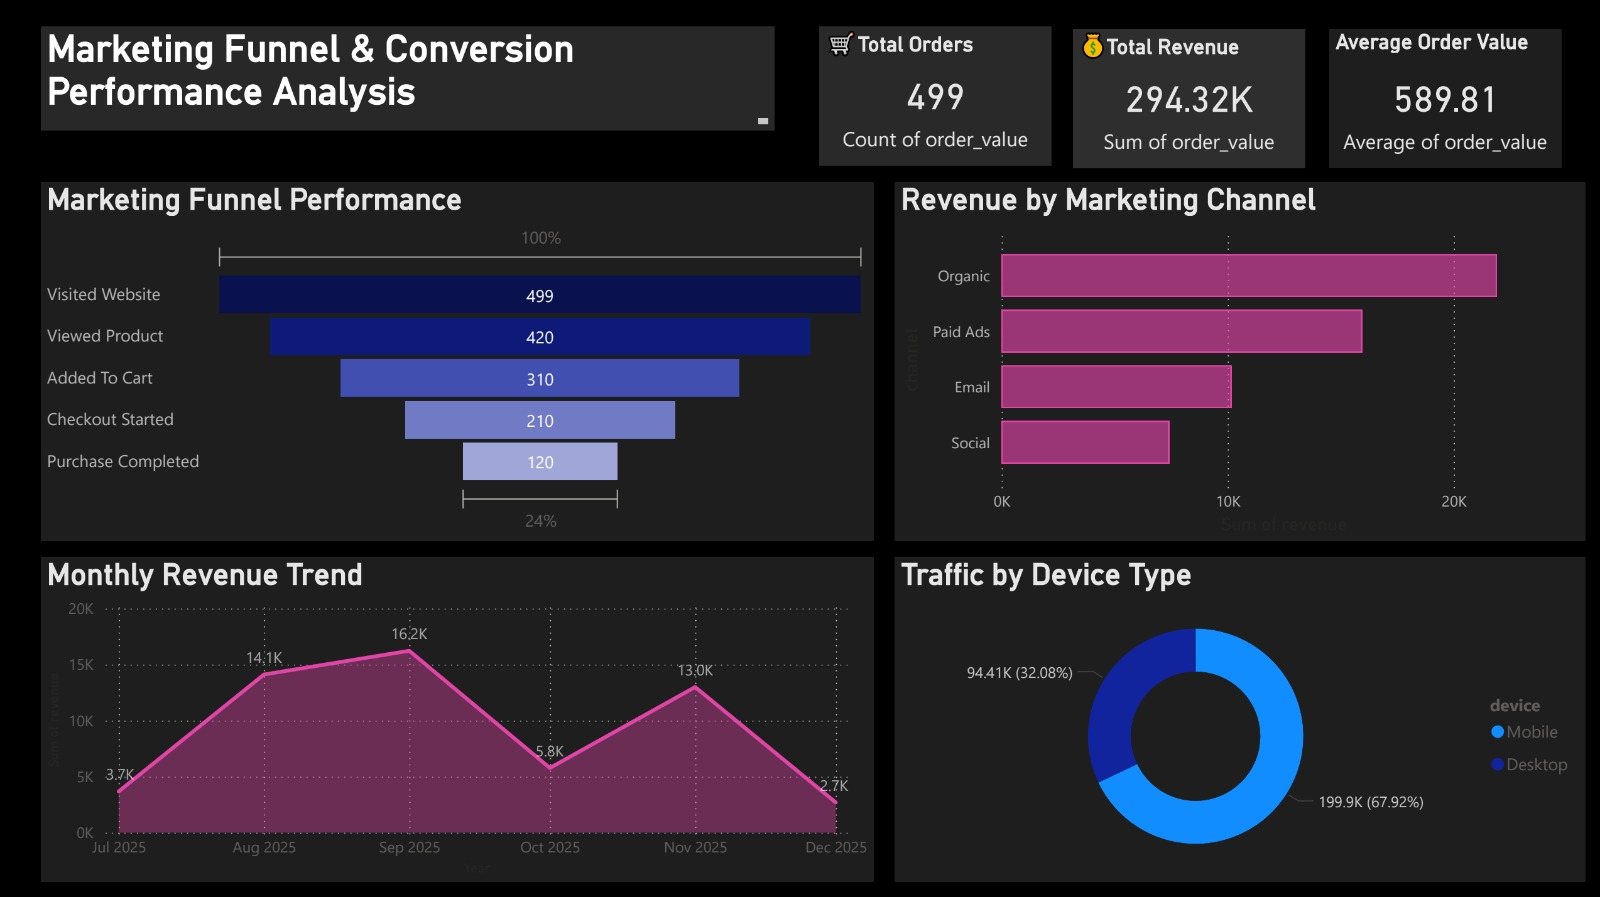

The page's visual inventory and layout, read from the dashboard file:
{"tool":"powerbi","page":{"name":"Page 1","canvas":[1280,720],"ordinal":0},"visuals":[{"type":"card","title":"💰Total Revenue","fields":{"Values":["Sum(Sheet1.order_value)"]},"box":[858,24.6,185.2,111.5],"z":0},{"type":"card","title":"Average Order Value","fields":{"Values":["Avg(Sheet1.order_value)"]},"box":[1062.1,24.6,185.2,111.5],"z":1000},{"type":"card","title":"🛒Total Orders","fields":{"Values":["CountNonNull(Sheet1.order_value)"]},"box":[655.8,22.7,185.2,111.5],"z":2000},{"type":"funnel","title":"Marketing Funnel Performance","fields":{"Y":["Sum(Table.Users)"],"Category":["Table.Stage"]},"box":[35.9,147.4,663.3,285.4],"z":3000},{"type":"clusteredBarChart","title":"Revenue by Marketing Channel","fields":{"Y":["Sum(Sheet1.revenue)"],"Category":["Sheet1.channel"]},"box":[716.2,147.4,549.9,285.4],"z":4000},{"type":"lineChart","title":"Monthly Revenue Trend","fields":{"Y":["Sum(Sheet1.revenue)"],"Category":["Sheet1.month.Variation.Date Hierarchy.Year","Sheet1.month.Variation.Date Hierarchy.Quarter","Sheet1.month.Variation.Date Hierarchy.Month","Sheet1.month.Variation.Date Hierarchy.Day"]},"box":[35.9,446,663.3,258.9],"z":5000},{"type":"donutChart","title":"Traffic by Device Type","fields":{"Y":["Sum(Sheet1.order_value)"],"Category":["Sheet1.device"]},"box":[716.2,446,549.9,258.9],"z":6000},{"type":"textbox","title":"Marketing Funnel & Conversion Performance Analysis","box":[36,24,604,80],"z":7000}]}

Visuals, with their boxes in screenshot pixels (x1, y1, x2, y2), scaled from the page's 1280x720 canvas onto the 1600x897 screenshot:
"💰Total Revenue" card: region(1072, 31, 1304, 170)
"Average Order Value" card: region(1328, 31, 1559, 170)
"🛒Total Orders" card: region(820, 28, 1051, 167)
"Marketing Funnel Performance" funnel: region(45, 184, 874, 539)
"Revenue by Marketing Channel" clusteredBarChart: region(895, 184, 1583, 539)
"Monthly Revenue Trend" lineChart: region(45, 556, 874, 878)
"Traffic by Device Type" donutChart: region(895, 556, 1583, 878)
"Marketing Funnel & Conversion Performance Analysis" textbox: region(45, 30, 800, 130)
